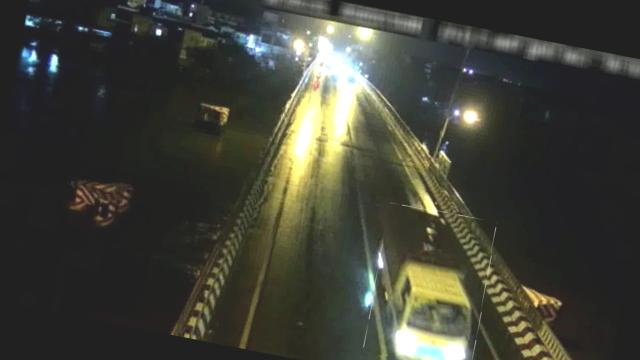Bike: (314, 69, 324, 79), (424, 221, 426, 222)
Truck: (361, 201, 498, 360)
